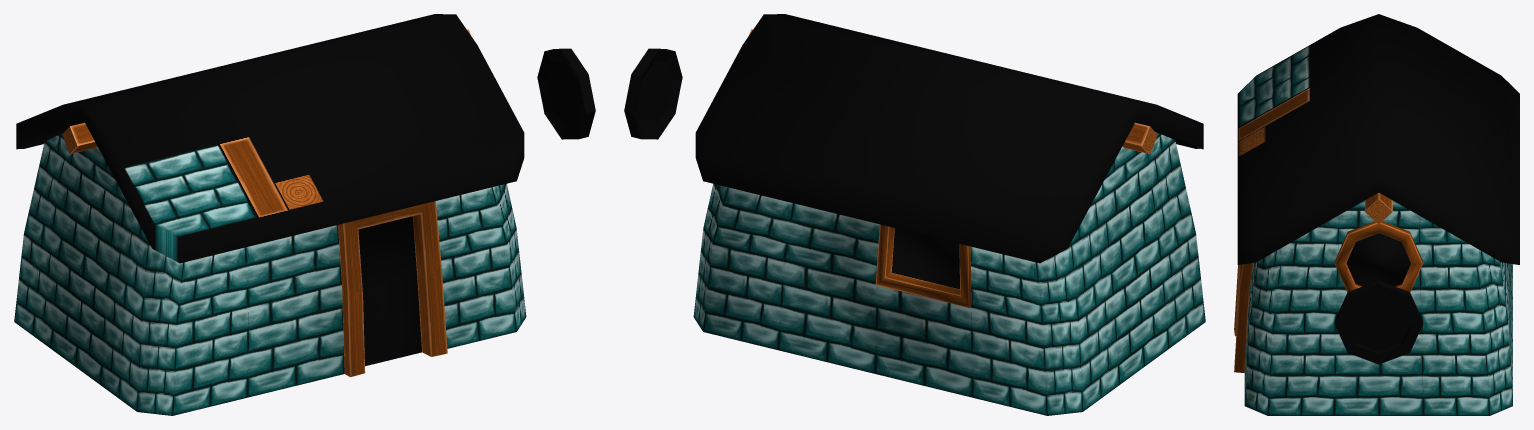
The model's file is Casa1.glb.
3 views of the same model, side by side, from view 1: azimuth 30°, elevation 25°; view 2: azimuth 150°, elevation 25°; view 3: azimuth 270°, elevation 25° (orthographic). The views are drawn at different scales.
Parts seen in each view (by area): view 1: Cube; view 2: Cube; view 3: Cube.
Part boxes in pixels (box(x1,y1,x2,y2)): Cube: box(14, 14, 595, 415); Cube: box(624, 14, 1205, 415); Cube: box(1234, 14, 1519, 415).
Bounding box in the file's own units: 15.95 × 7.93 × 8.72.
1 material, 1 textured.
